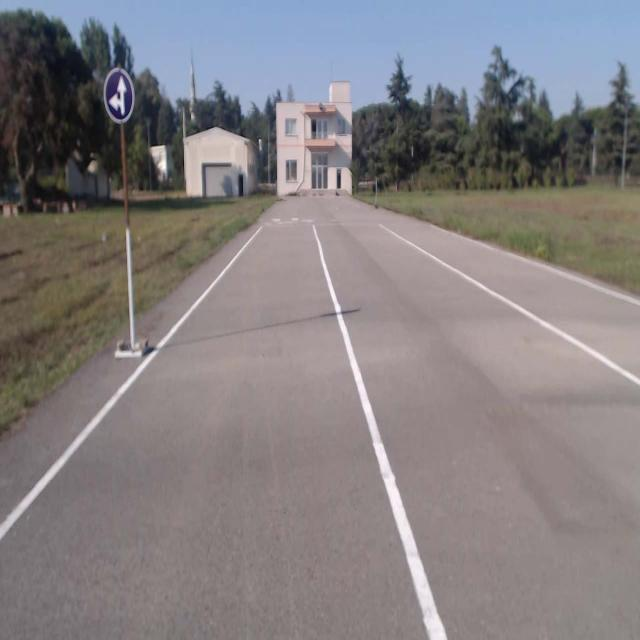ilerisol: (103, 67, 137, 121)
